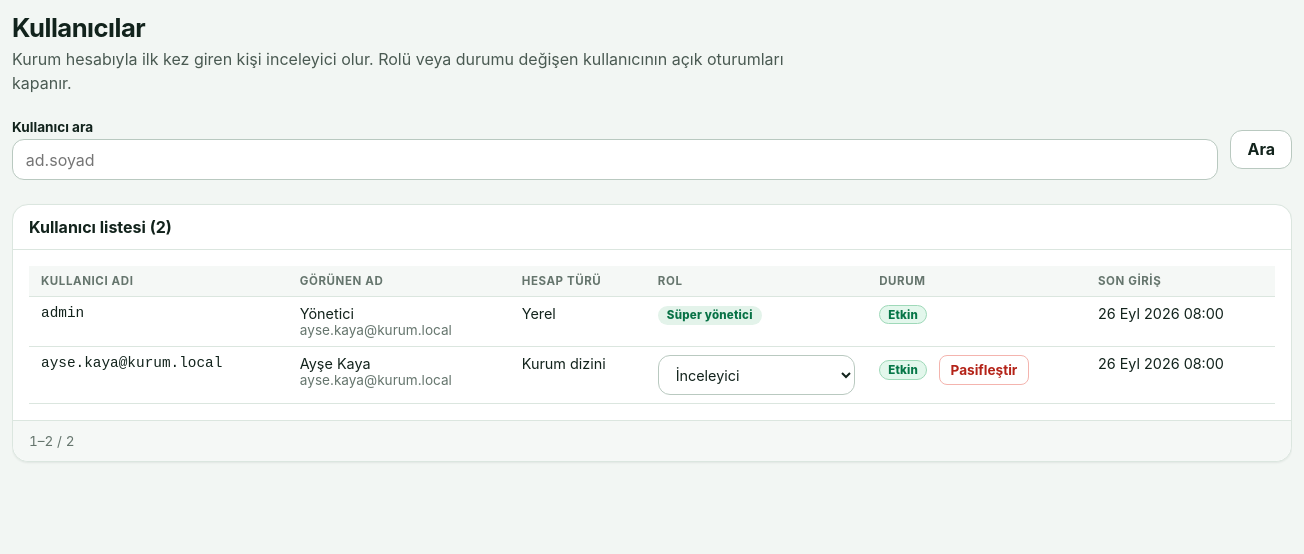
Test: user administration page › shows the backend refusal message
Select "Kural yöneticisi" in the dropdown named "ayse.kaya@kurum.local rolü" at (756, 375), box [658, 355, 855, 395]
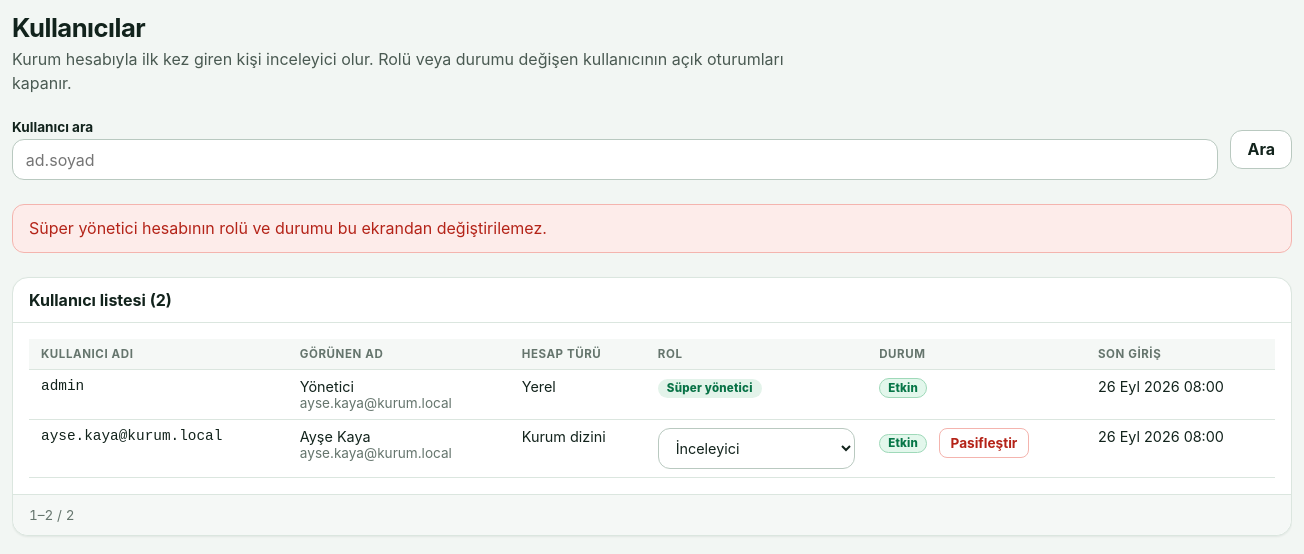
Expected: the message reads "Süper yönetici hesabının rolü ve durumu bu ekrandan değiştirilemez.", [29, 218, 547, 238]
